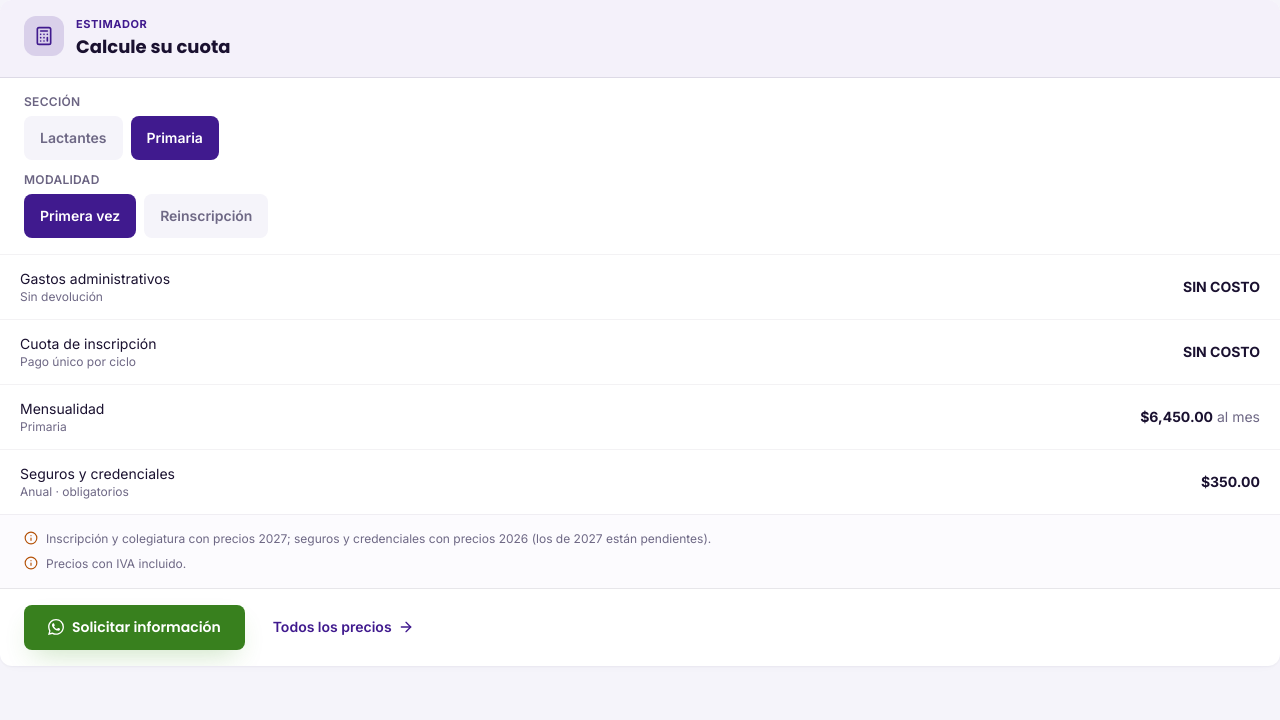
Test: estimator copy › shows the edited labels, levels and notes; the figures still come from the price tables
Expected: the text "$6,450.00" is shown, [1140,408,1213,424]
Expected: the heading "Calcule su cuota" is shown, [76,32,230,60]
Click the button "Lactantes" at (73, 138), box [24,116,122,160]
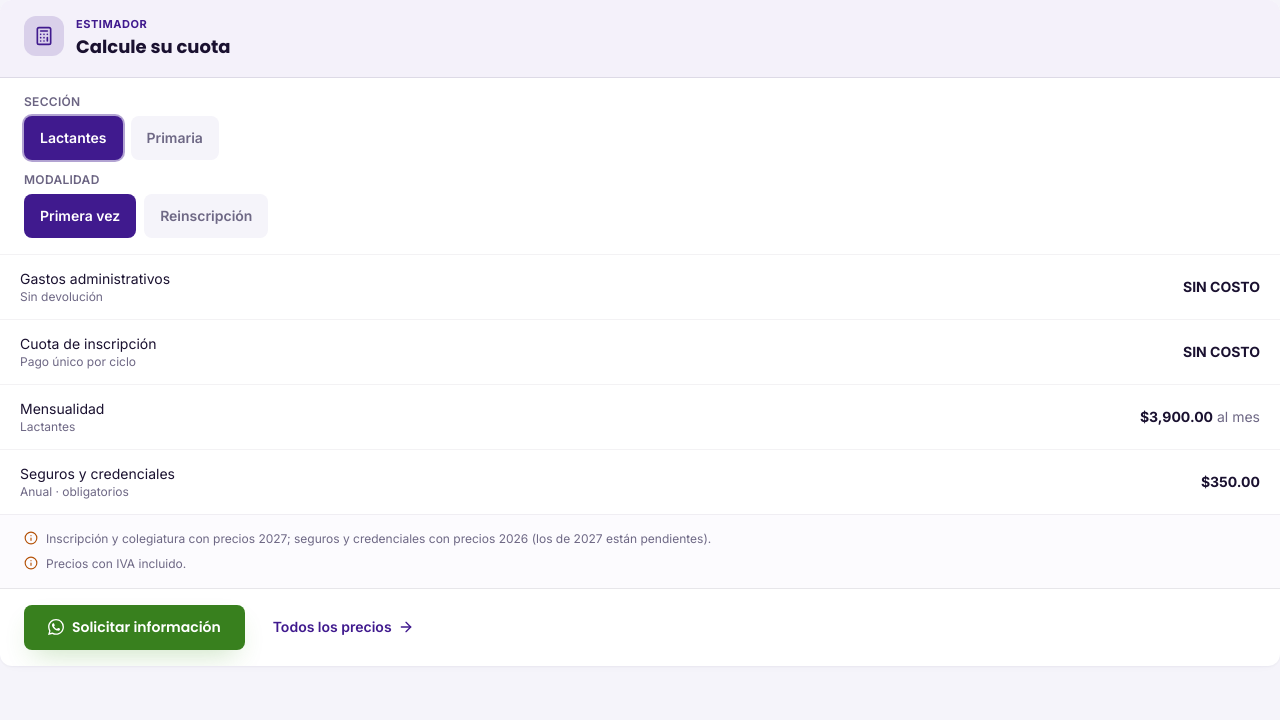
Expected: the text "SIN COSTO" is shown 2 times, [1183,276,1260,296]; [1183,342,1260,362]
Expected: the text "$3,900.00" is shown, [1140,408,1213,424]
